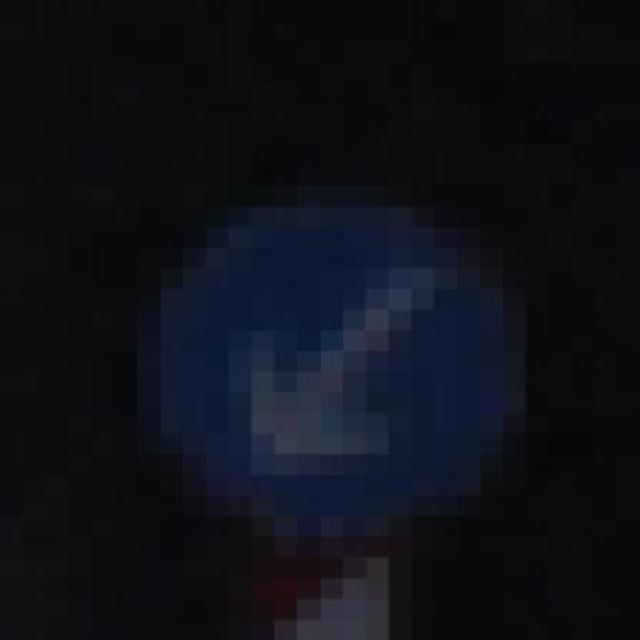Keep-Left: (137, 164, 572, 578)
